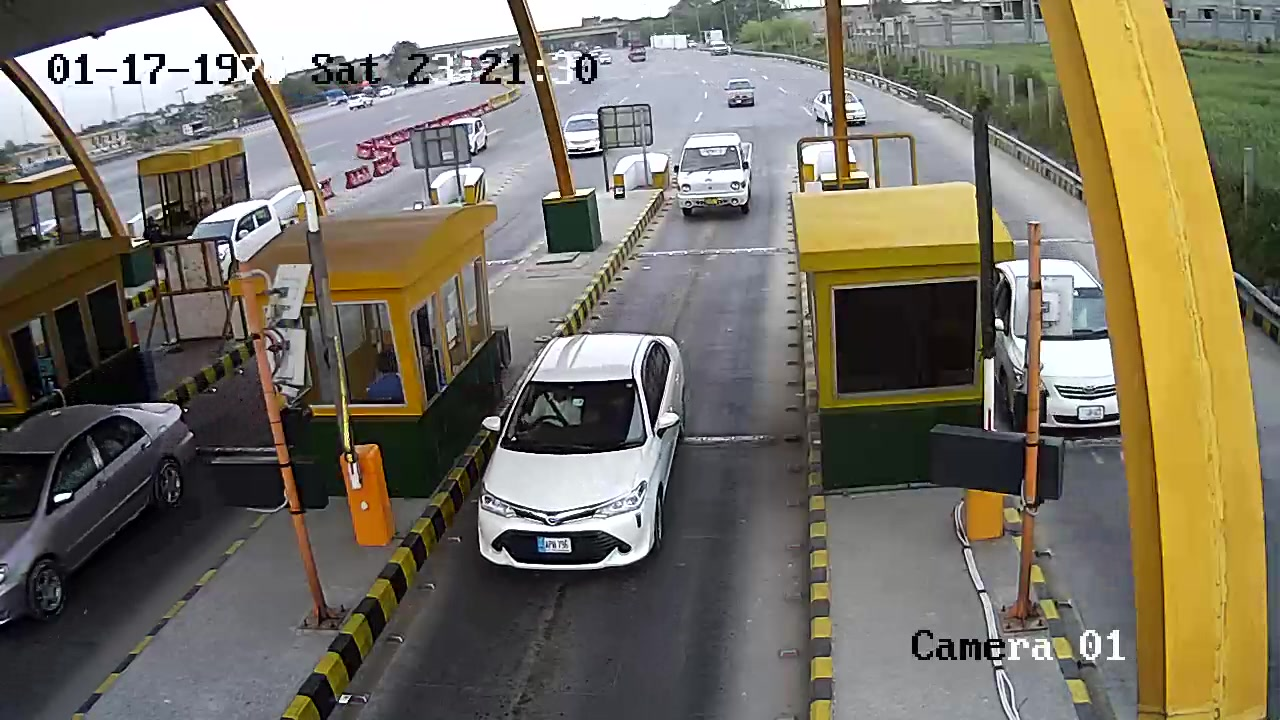F1: (475, 323, 692, 569)
